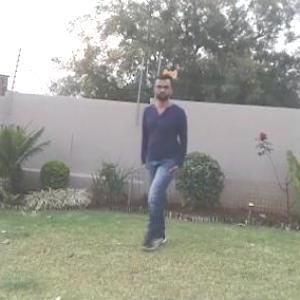follow: (138, 75, 196, 243)
